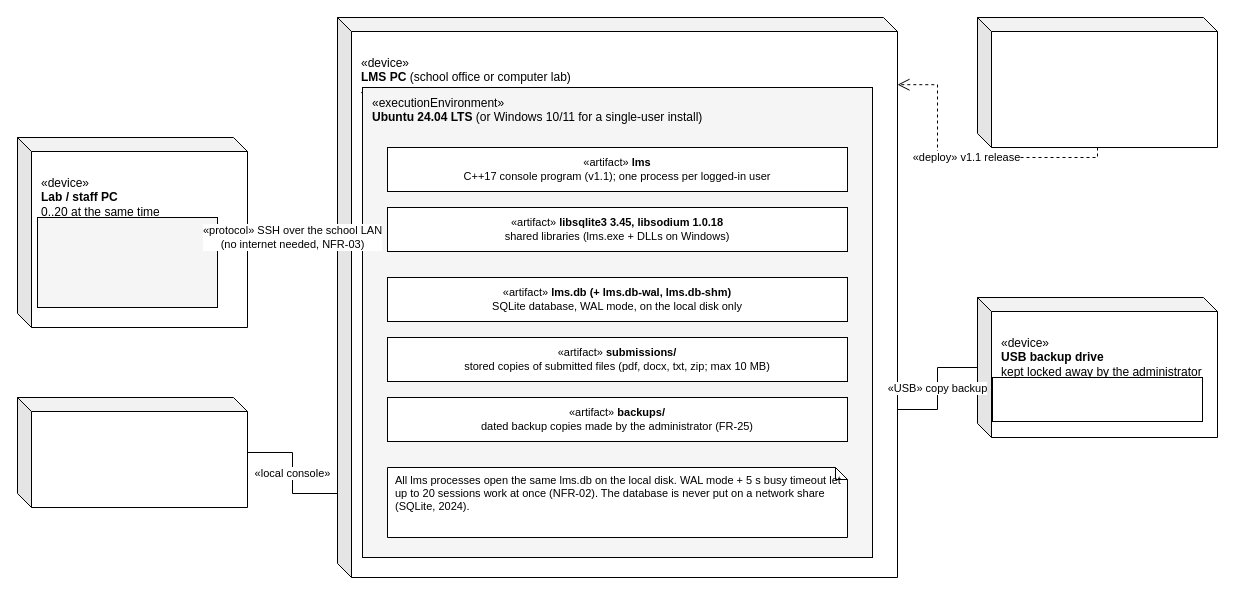
This 1235x595 diagram has some shape labels left out. Each missing label, with the centre of its shape:
"«artifact» lms-backup-YYYYMMDD.db" belongs at (x=1097, y=399).
"«device» GitHub Actions runner (build only) ubuntu-24.04: build, test, analyse" belongs at (x=1097, y=82).
"«device» Keyboard + screen at the LMS PC" belongs at (x=132, y=452).
"«executionEnvironment» SSH client (Windows Terminal / PuTTY)" belongs at (x=127, y=262).
